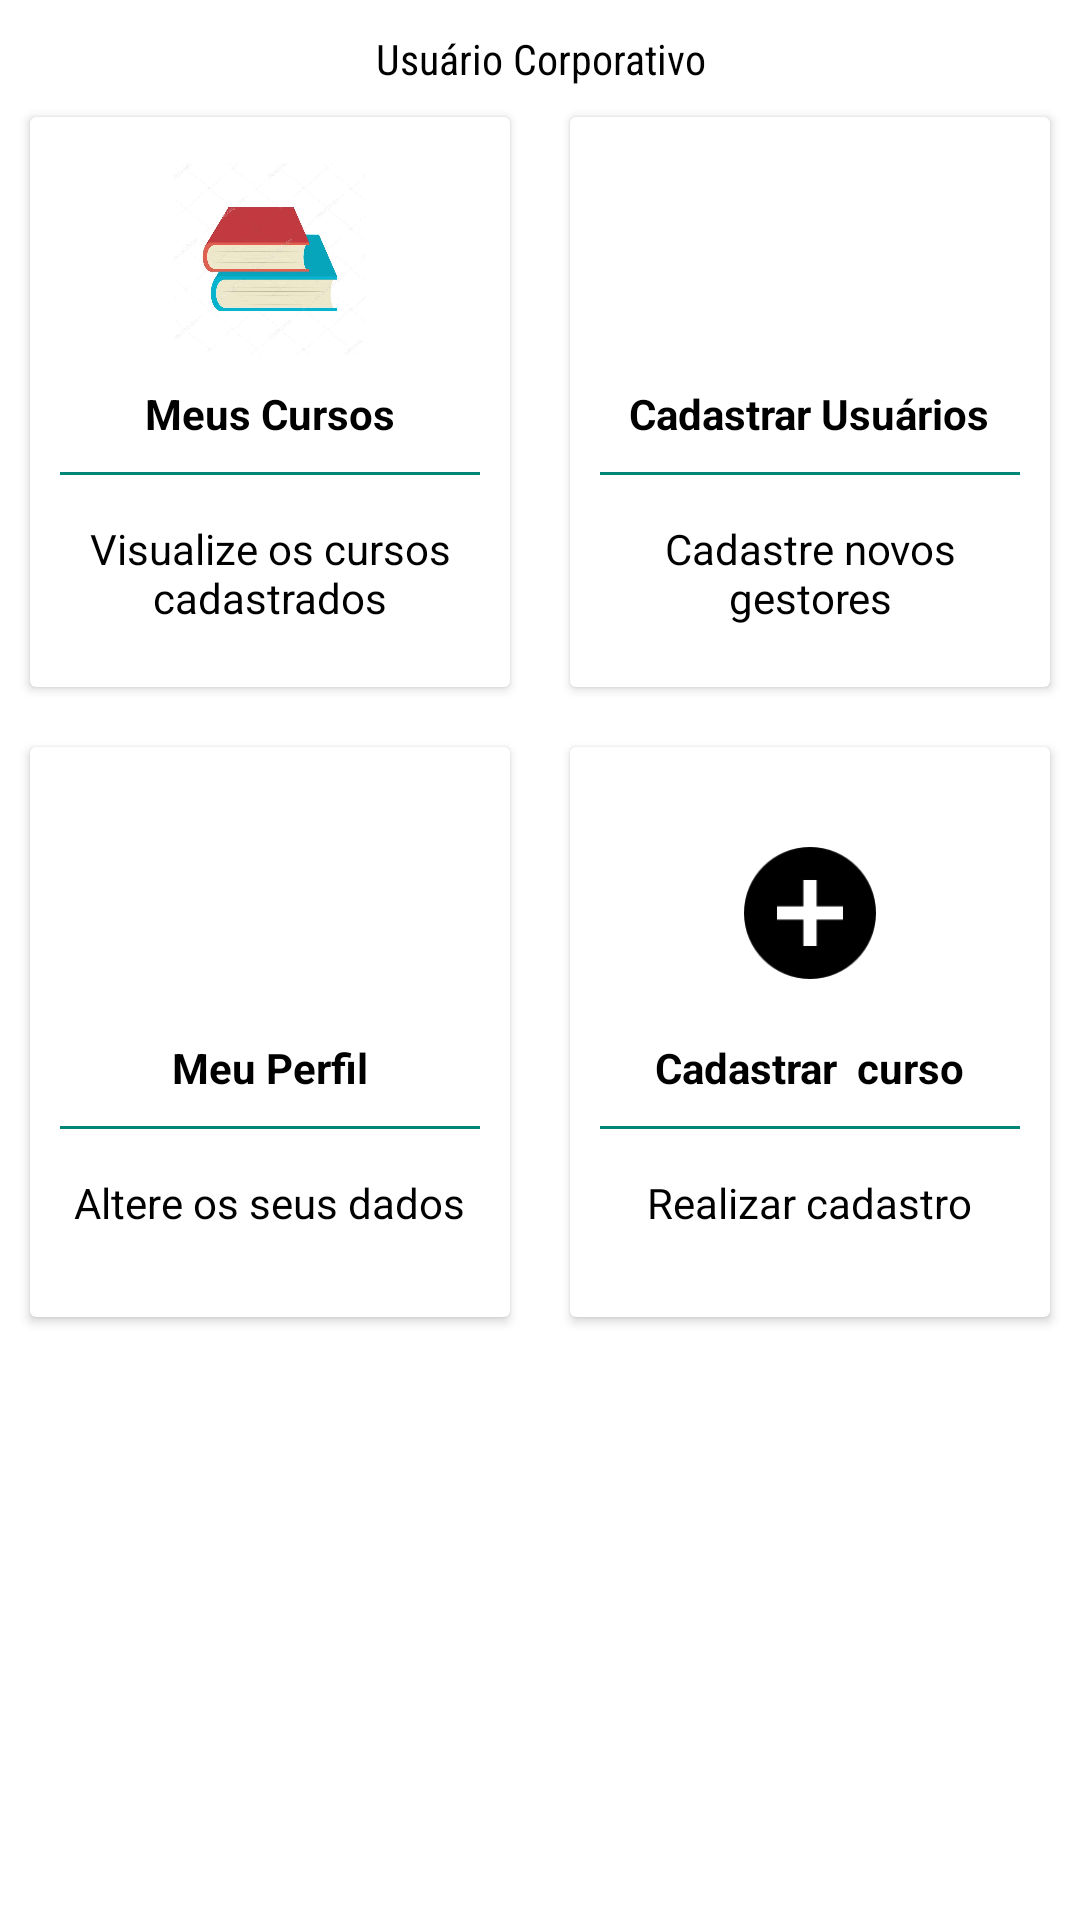

Icons on this 1080x1920 Android screen, each with the point to tap as point (x, y):
livro: point (270, 259)
mais: point (810, 913)
